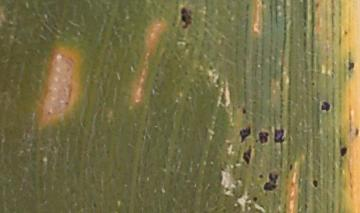tarspot: (178, 6, 193, 30), (263, 172, 279, 192), (241, 143, 252, 166), (238, 125, 252, 143), (257, 129, 270, 145), (273, 127, 285, 144), (319, 100, 331, 114), (338, 146, 348, 158), (346, 60, 355, 73), (311, 178, 320, 190), (354, 126, 359, 138), (257, 173, 265, 180), (251, 195, 258, 203), (241, 106, 247, 115), (343, 29, 349, 37), (288, 162, 293, 171), (310, 80, 315, 87)
